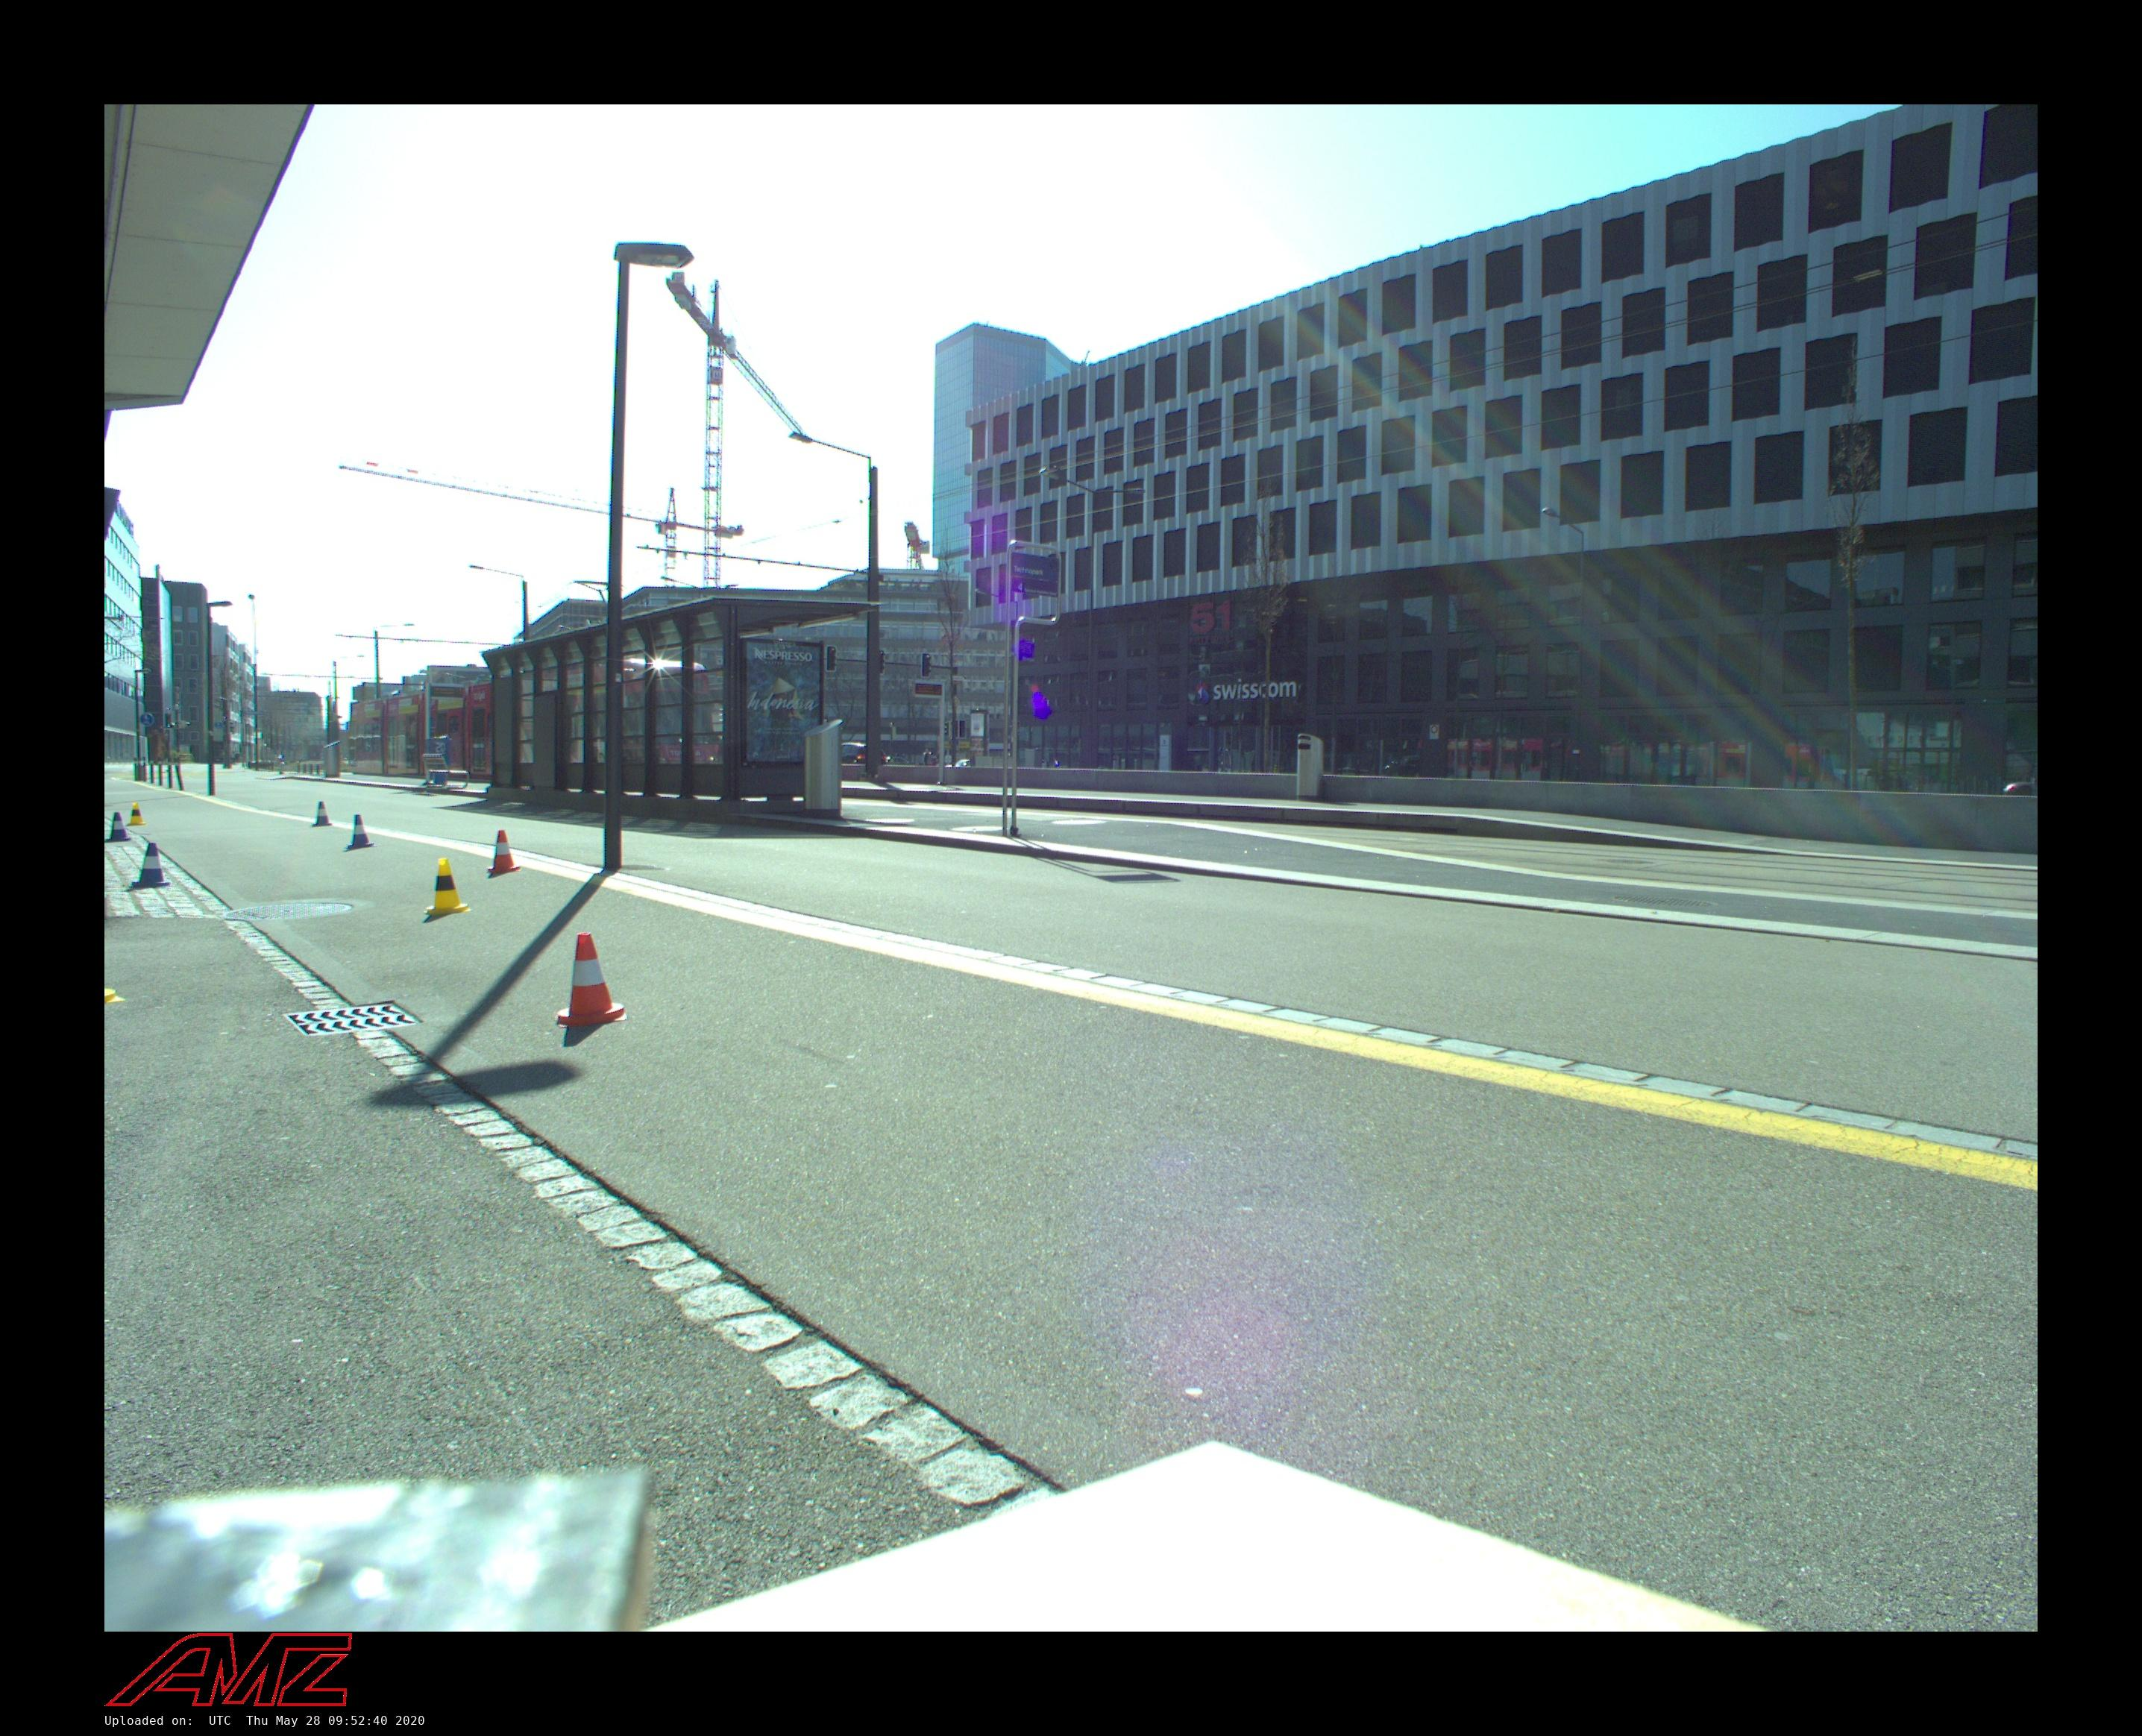blue_cone: (131, 843, 170, 887), (344, 815, 377, 849), (106, 811, 131, 841), (312, 801, 333, 827)
orange_cone: (556, 932, 627, 1027), (487, 829, 521, 873)
yellow_cone: (427, 857, 468, 914), (128, 802, 147, 825)
